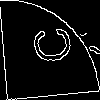C: (25, 25, 72, 66)
